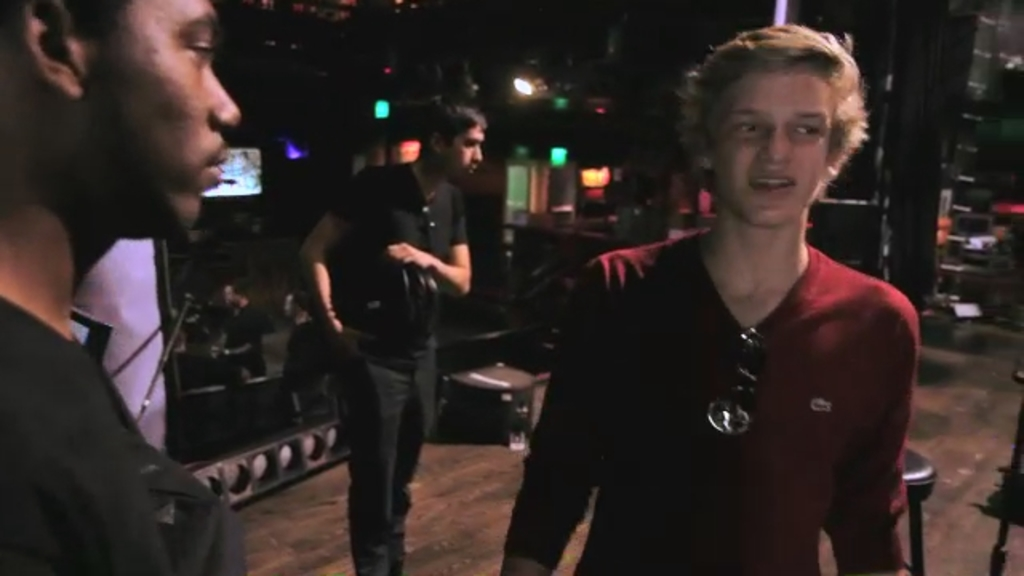face: (64, 0, 248, 211)
